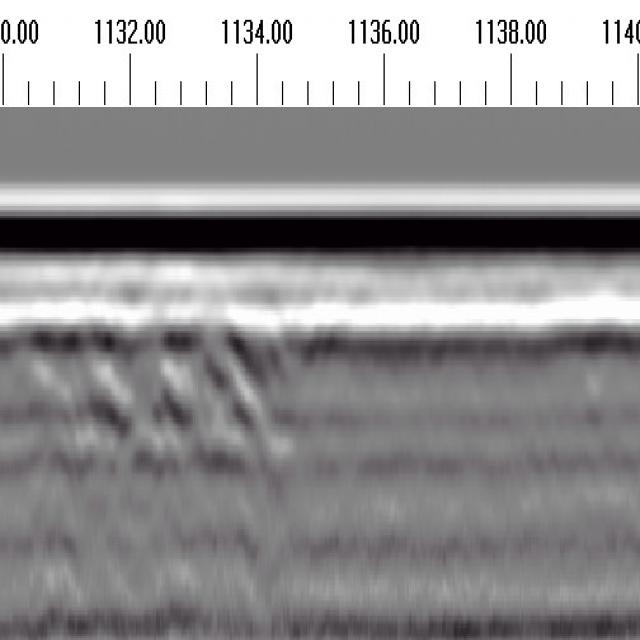loose: (27, 292, 296, 471)
